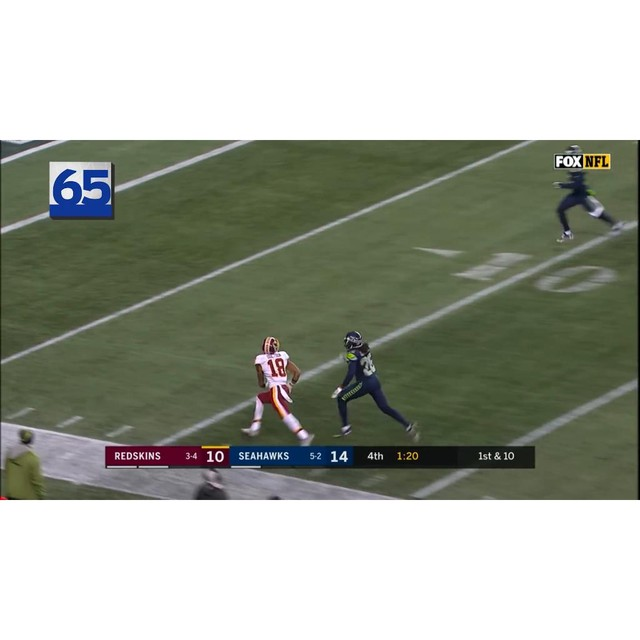american-football-player: (333, 330, 416, 441), (241, 337, 311, 443), (553, 146, 622, 241)
